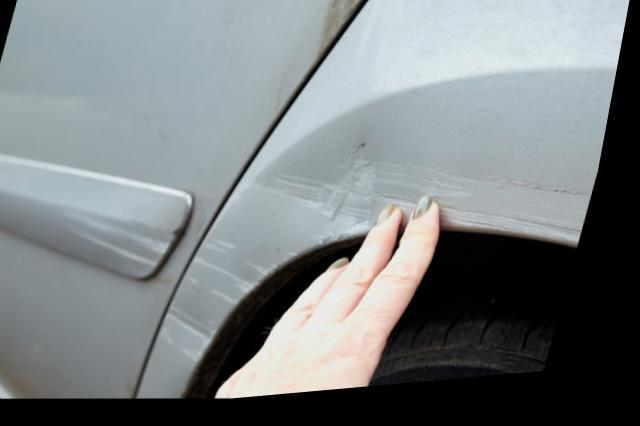dent: (249, 112, 384, 251)
scratch: (392, 164, 603, 261), (170, 245, 317, 378), (71, 210, 193, 274)
